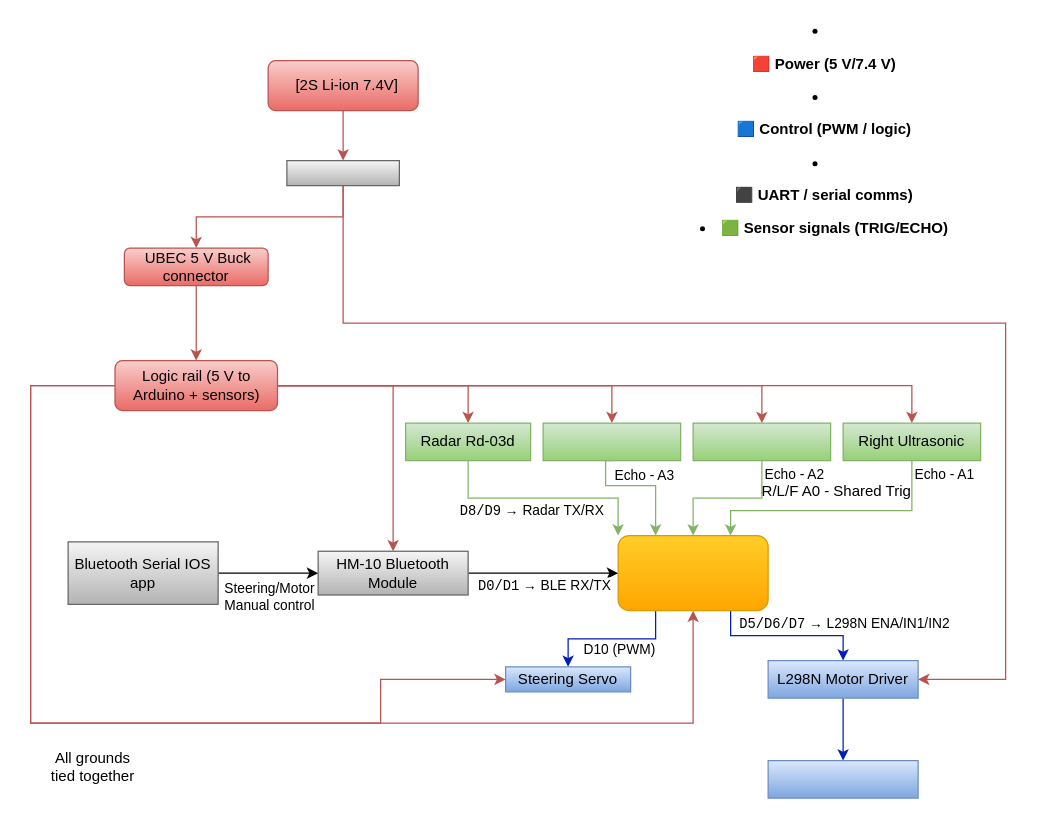
The diagram is 1038 pixels wide and 820 high, and some of its shapes have lost their labels. Here are the shapes that lost their labels. From the top down, the centre of each, then its label:
At pixel 342 172: "Switch".
At pixel 611 441: "Front Ultrasonic".
At pixel 761 441: "Left Ultrasonic".
At pixel 692 572: "Arduino Uno R4".
At pixel 842 778: "DC Motor".
